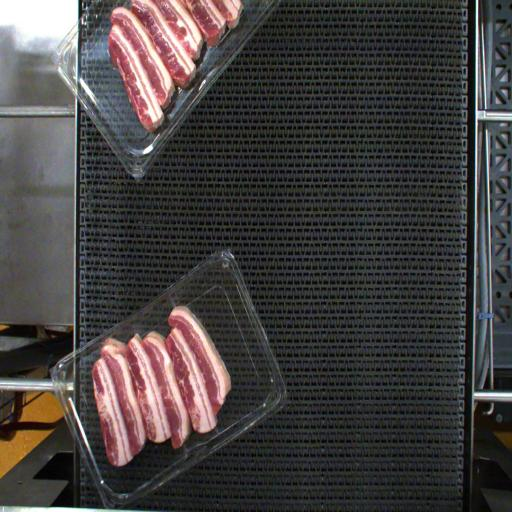packaging-error: (162, 286, 183, 318)
